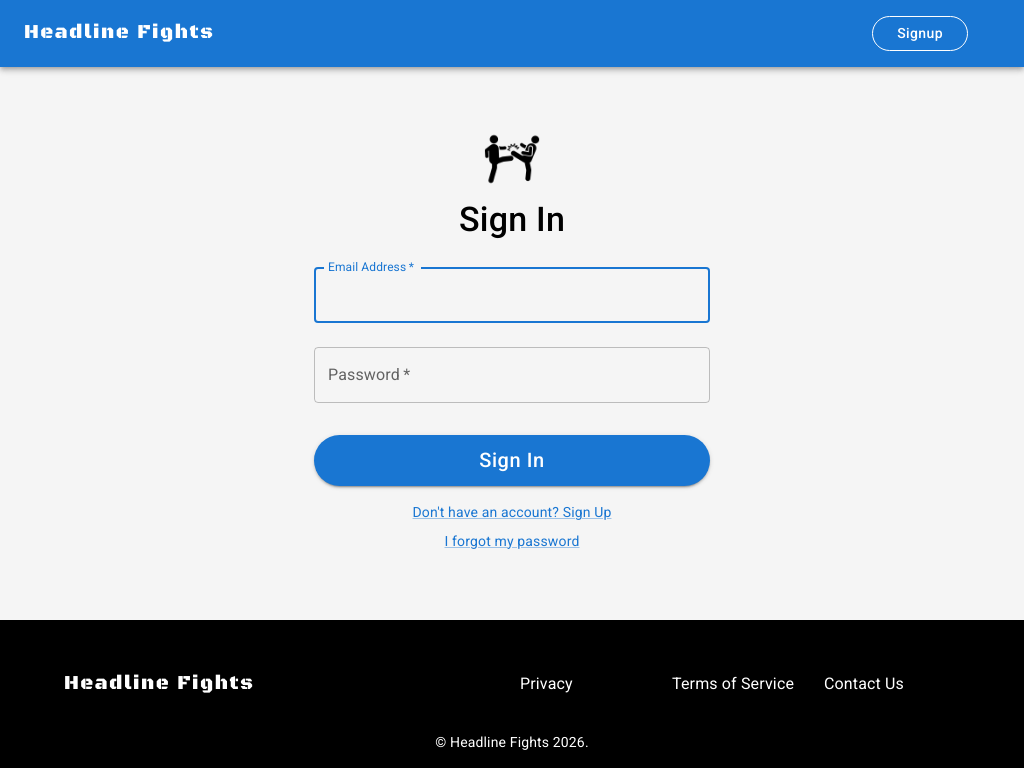
Scenario: Login page › disables the button while submitting
Step 1. Type "test@example.com" into the field labelled "Email Address *" → (512, 296), box [314,268,710,324]
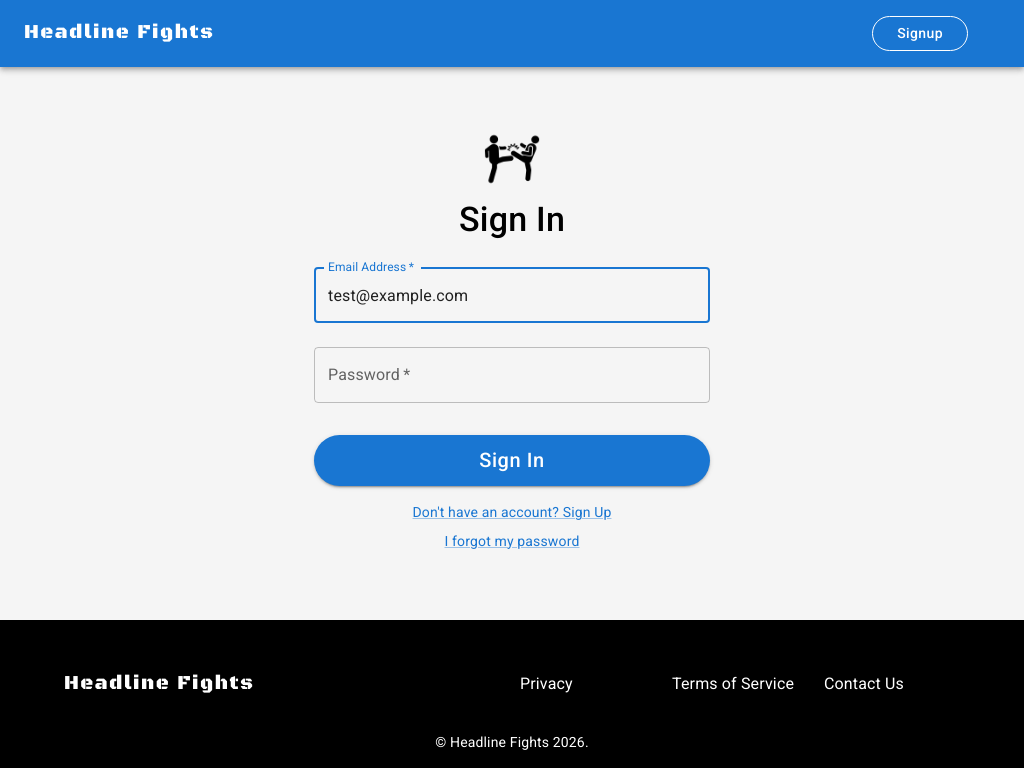
Step 2. Type "Password1!" into the password field labelled "Password *" → (512, 376), box [314,348,710,404]
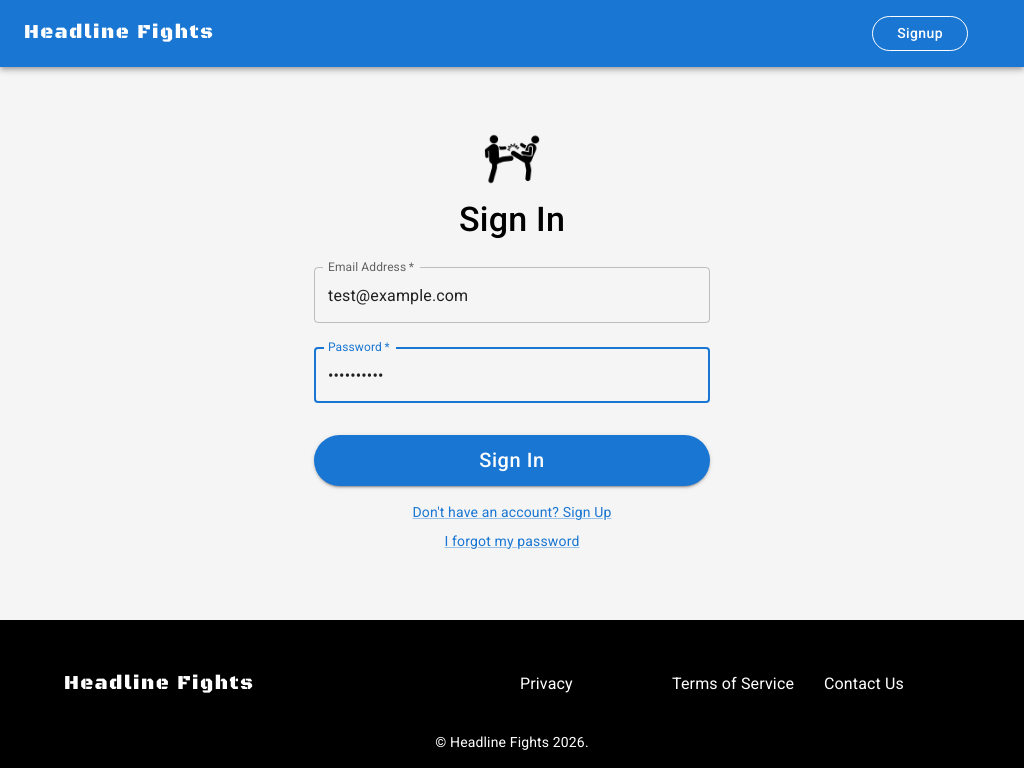
Step 3. Submit the form "Sign In", box [314,252,710,550]
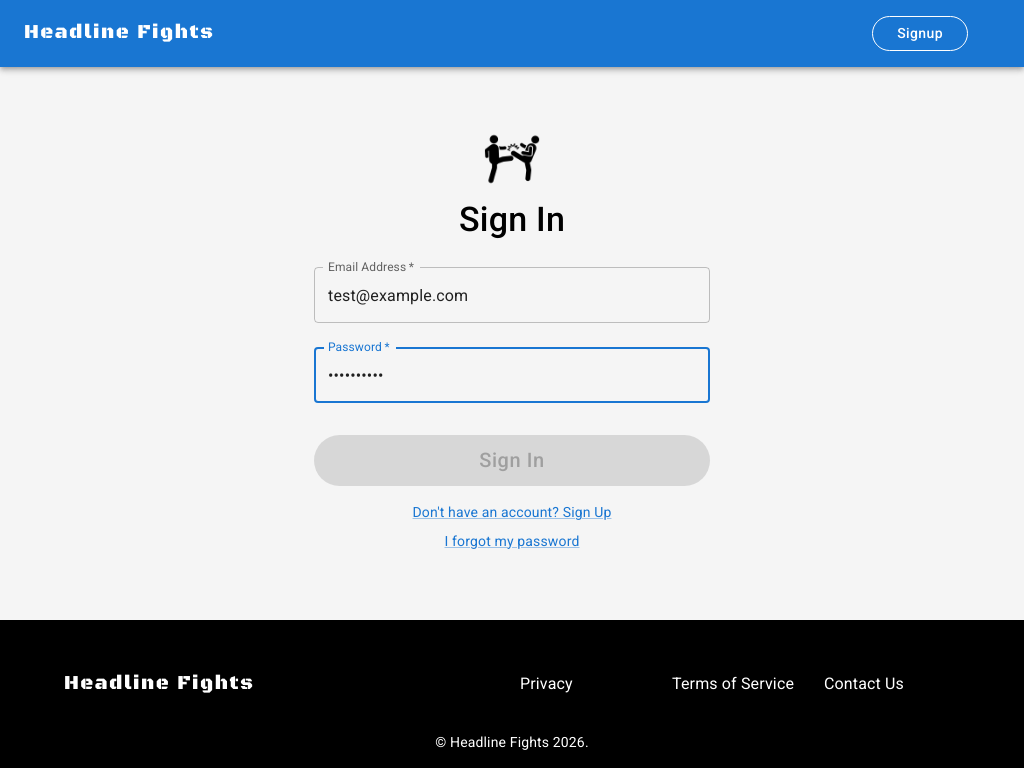
Check: the button "Sign In" is disabled, box [314,436,710,486]
